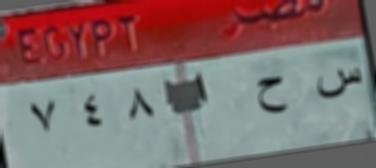4: (75, 87, 110, 134)
7: (27, 96, 60, 135)
7aa: (252, 71, 292, 124)
8: (120, 83, 156, 124)
alif: (190, 68, 214, 105)
seen: (313, 66, 365, 104)
